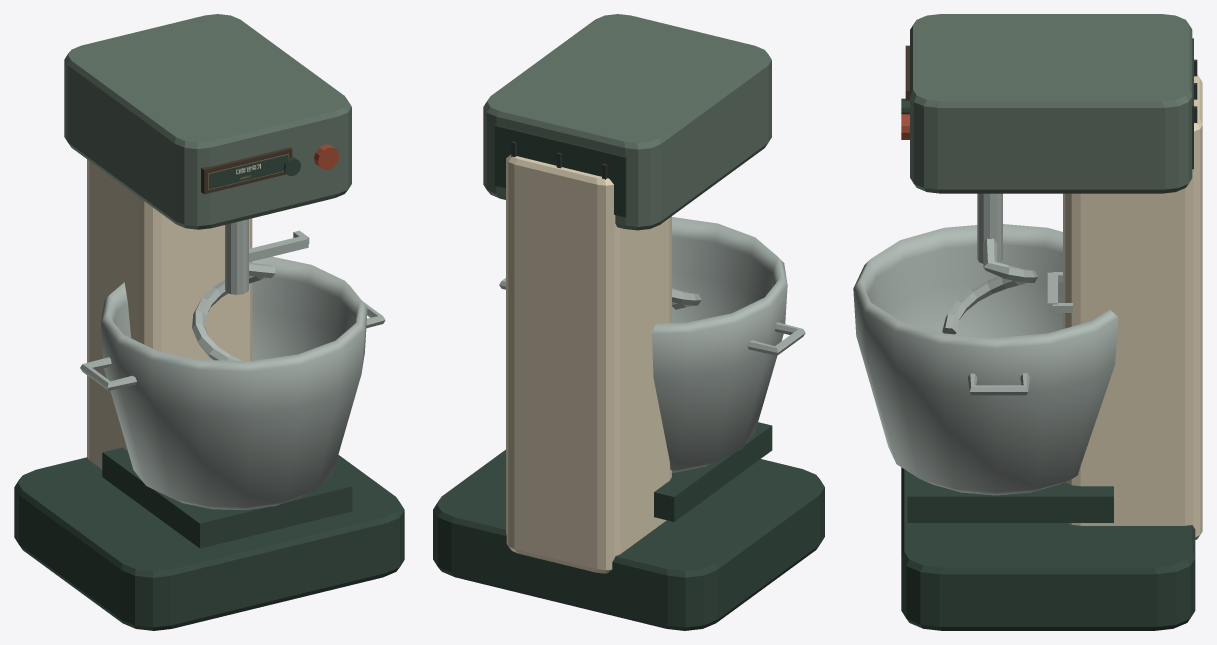
The model's file is 03_Floor_Dough_Mixer.fbx.
3 views of the same model, side by side, from view 1: azimuth 30°, elevation 25°; view 2: azimuth 150°, elevation 25°; view 3: azimuth 270°, elevation 25° (orthographic). The views are drawn at different scales.
Parts seen in each view (by area): view 1: 03_Floor_Dough_Mixer__Structure, 03_Floor_Dough_Mixer__Bowl, 03_Floor_Dough_Mixer__Mixing_Hook; view 2: 03_Floor_Dough_Mixer__Structure, 03_Floor_Dough_Mixer__Bowl; view 3: 03_Floor_Dough_Mixer__Structure, 03_Floor_Dough_Mixer__Bowl, 03_Floor_Dough_Mixer__Mixing_Hook.
Boxes of the visible parts, box(x1,y1,x2,y2) form: 03_Floor_Dough_Mixer__Structure: box(14, 14, 404, 630); 03_Floor_Dough_Mixer__Bowl: box(80, 256, 385, 509); 03_Floor_Dough_Mixer__Mixing_Hook: box(192, 219, 275, 360); 03_Floor_Dough_Mixer__Structure: box(433, 14, 824, 630); 03_Floor_Dough_Mixer__Bowl: box(499, 217, 805, 472); 03_Floor_Dough_Mixer__Structure: box(901, 14, 1202, 630); 03_Floor_Dough_Mixer__Bowl: box(853, 224, 1118, 495); 03_Floor_Dough_Mixer__Mixing_Hook: box(942, 193, 1037, 334).
Size of the model in its own units: 117 by 191 by 120.
Materials: 2 (2 with a texture image).
